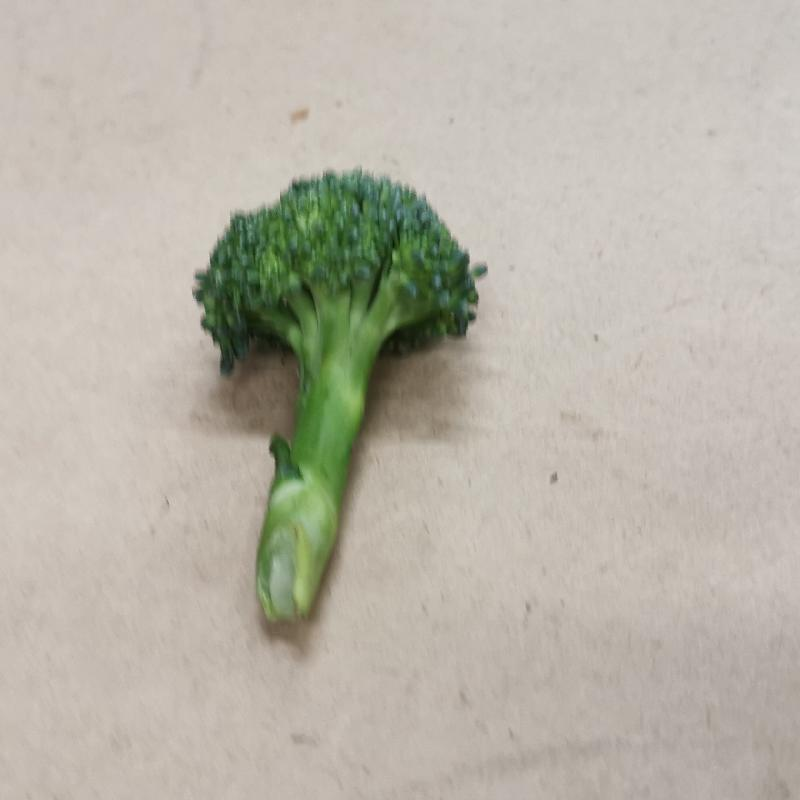broccoli: (186, 167, 487, 634)
